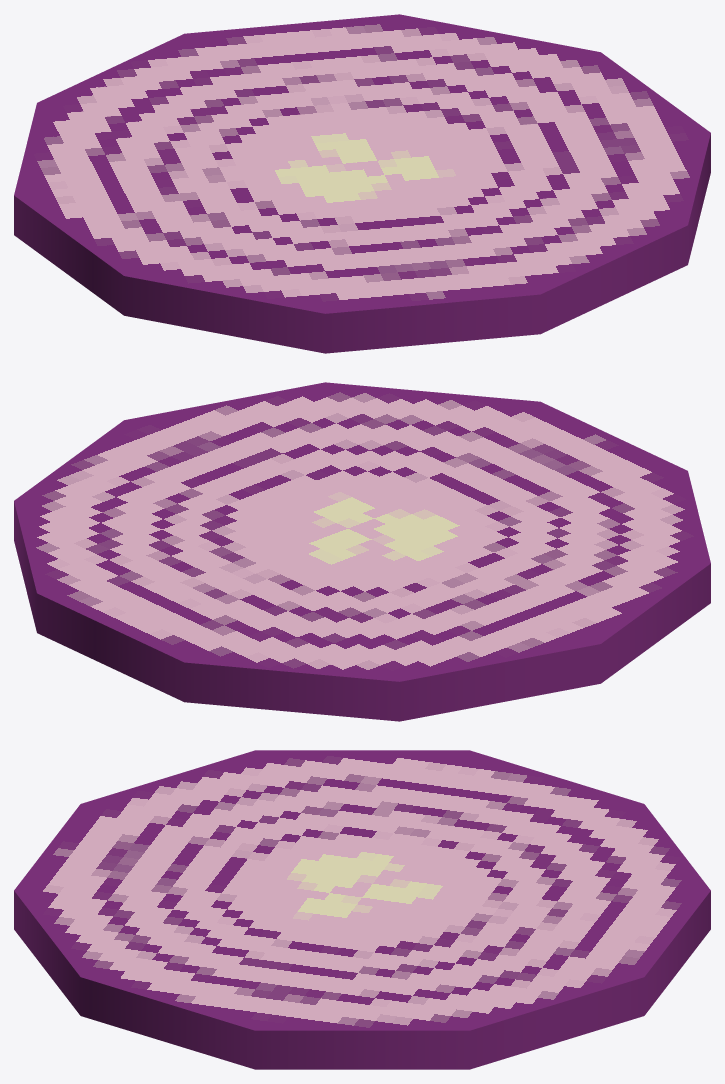
File: Onion.fbx
3 renders of one model, top to bottom at view 1: azimuth 30°, elevation 25°; view 2: azimuth 150°, elevation 25°; view 3: azimuth 270°, elevation 25°, orthographic. The views are drawn at different scales.
Parts seen in each view (by area): view 1: Onion; view 2: Onion; view 3: Onion.
Part boxes in pixels (x1,y1,x2,y2): Onion: [14, 14, 710, 353]; Onion: [14, 382, 710, 721]; Onion: [14, 750, 710, 1069].
Size of the model in its own units: 0.1312 by 0.00849 by 0.138.
